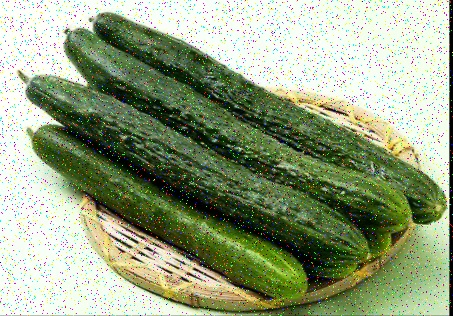cucumber: (93, 6, 441, 211), (64, 30, 419, 217), (23, 71, 362, 257), (25, 122, 303, 291)
